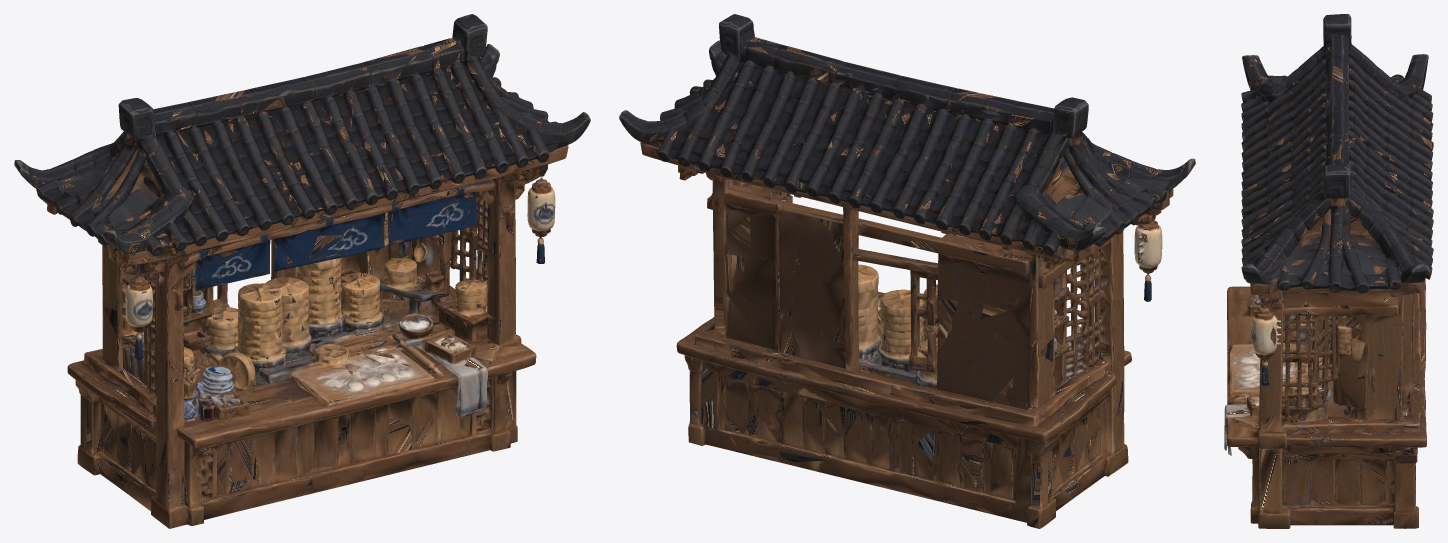
Rendered from steamers.glb.
3 renders of one model, left to right at view 1: azimuth 30°, elevation 25°; view 2: azimuth 150°, elevation 25°; view 3: azimuth 270°, elevation 25°, orthographic. The views are drawn at different scales.
Size of the model in its own units: 1.9 by 1.48 by 0.7796.
Materials: 1 (1 with a texture image).
